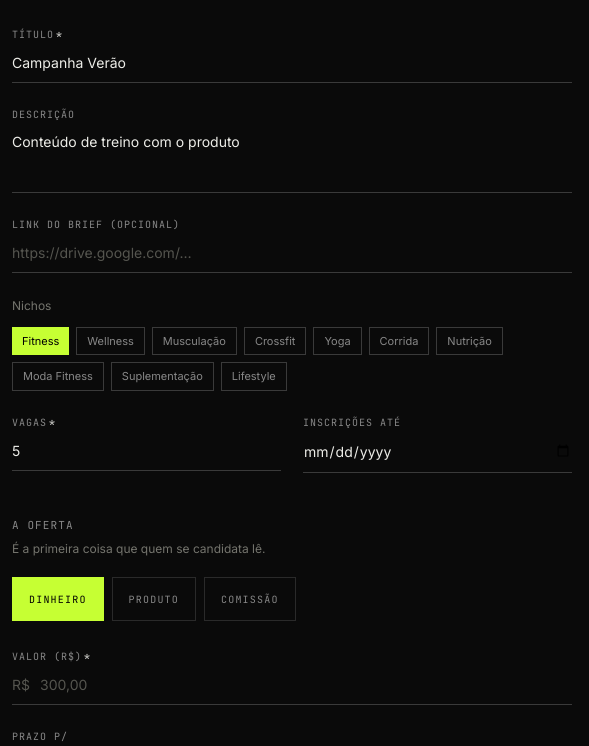
Test: CampaignForm — prévia da oferta › acompanha o que a marca digita, antes de salvar
The width and height of the screenshot is (589, 746).
Type "450" into the number field labelled "Valor (R$)*".
click(306, 684); type("450")  # box [40,674,572,695]
(page scrolled)
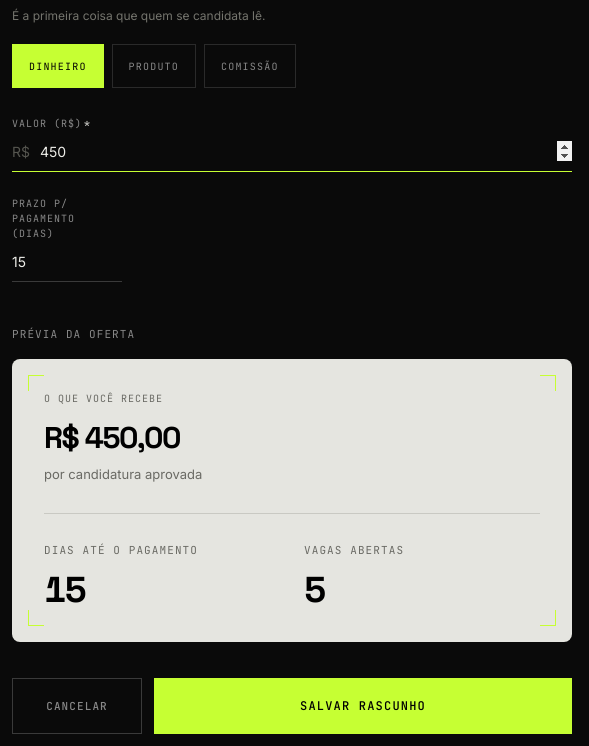
Check: the text "R$ 450,00" is shown, box [44,418,180,456]
